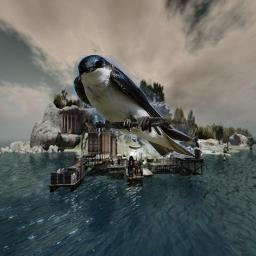Swallow: (73, 55, 195, 158)
